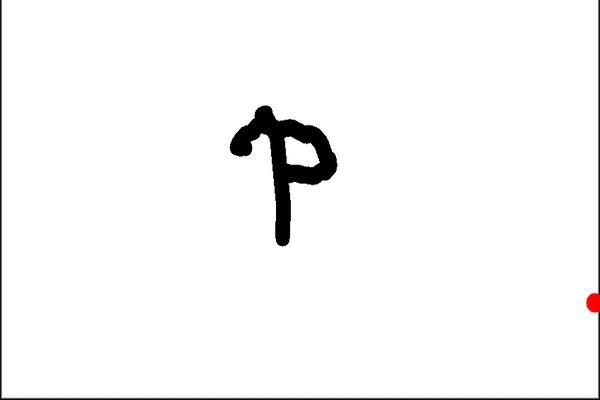P: (217, 83, 361, 263)
